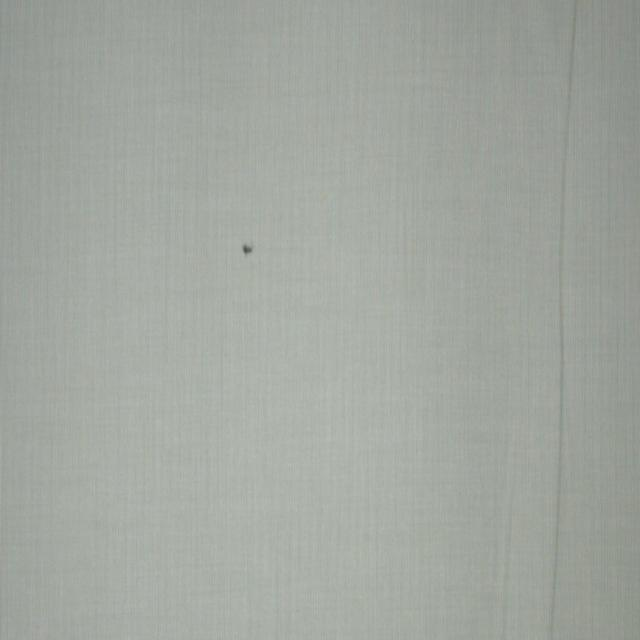dirty: (243, 244, 253, 256)
